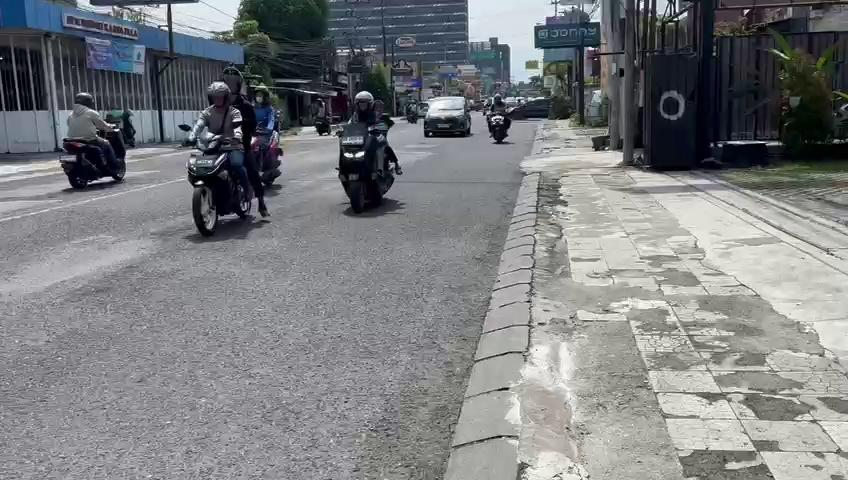helm: (204, 74, 232, 111), (350, 87, 377, 117)
riding: (174, 62, 274, 241), (329, 87, 411, 221)
